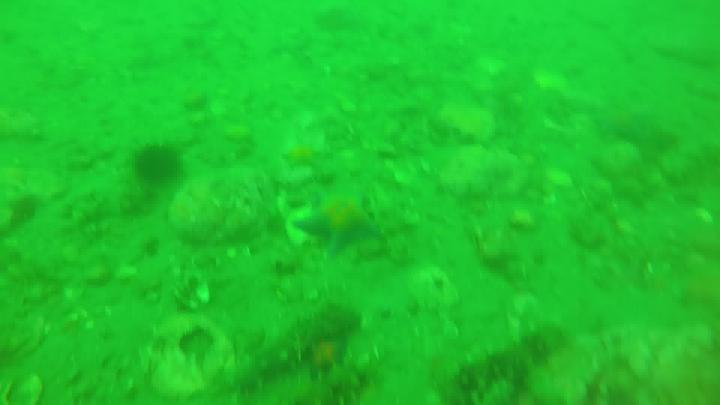echinus: (136, 141, 182, 188)
holothurian: (238, 305, 367, 382), (454, 325, 570, 405), (249, 363, 370, 405)
scallop: (274, 194, 329, 244), (170, 274, 216, 312), (1, 367, 46, 405), (533, 65, 567, 96), (547, 166, 578, 194)
starfish: (291, 188, 382, 254)
